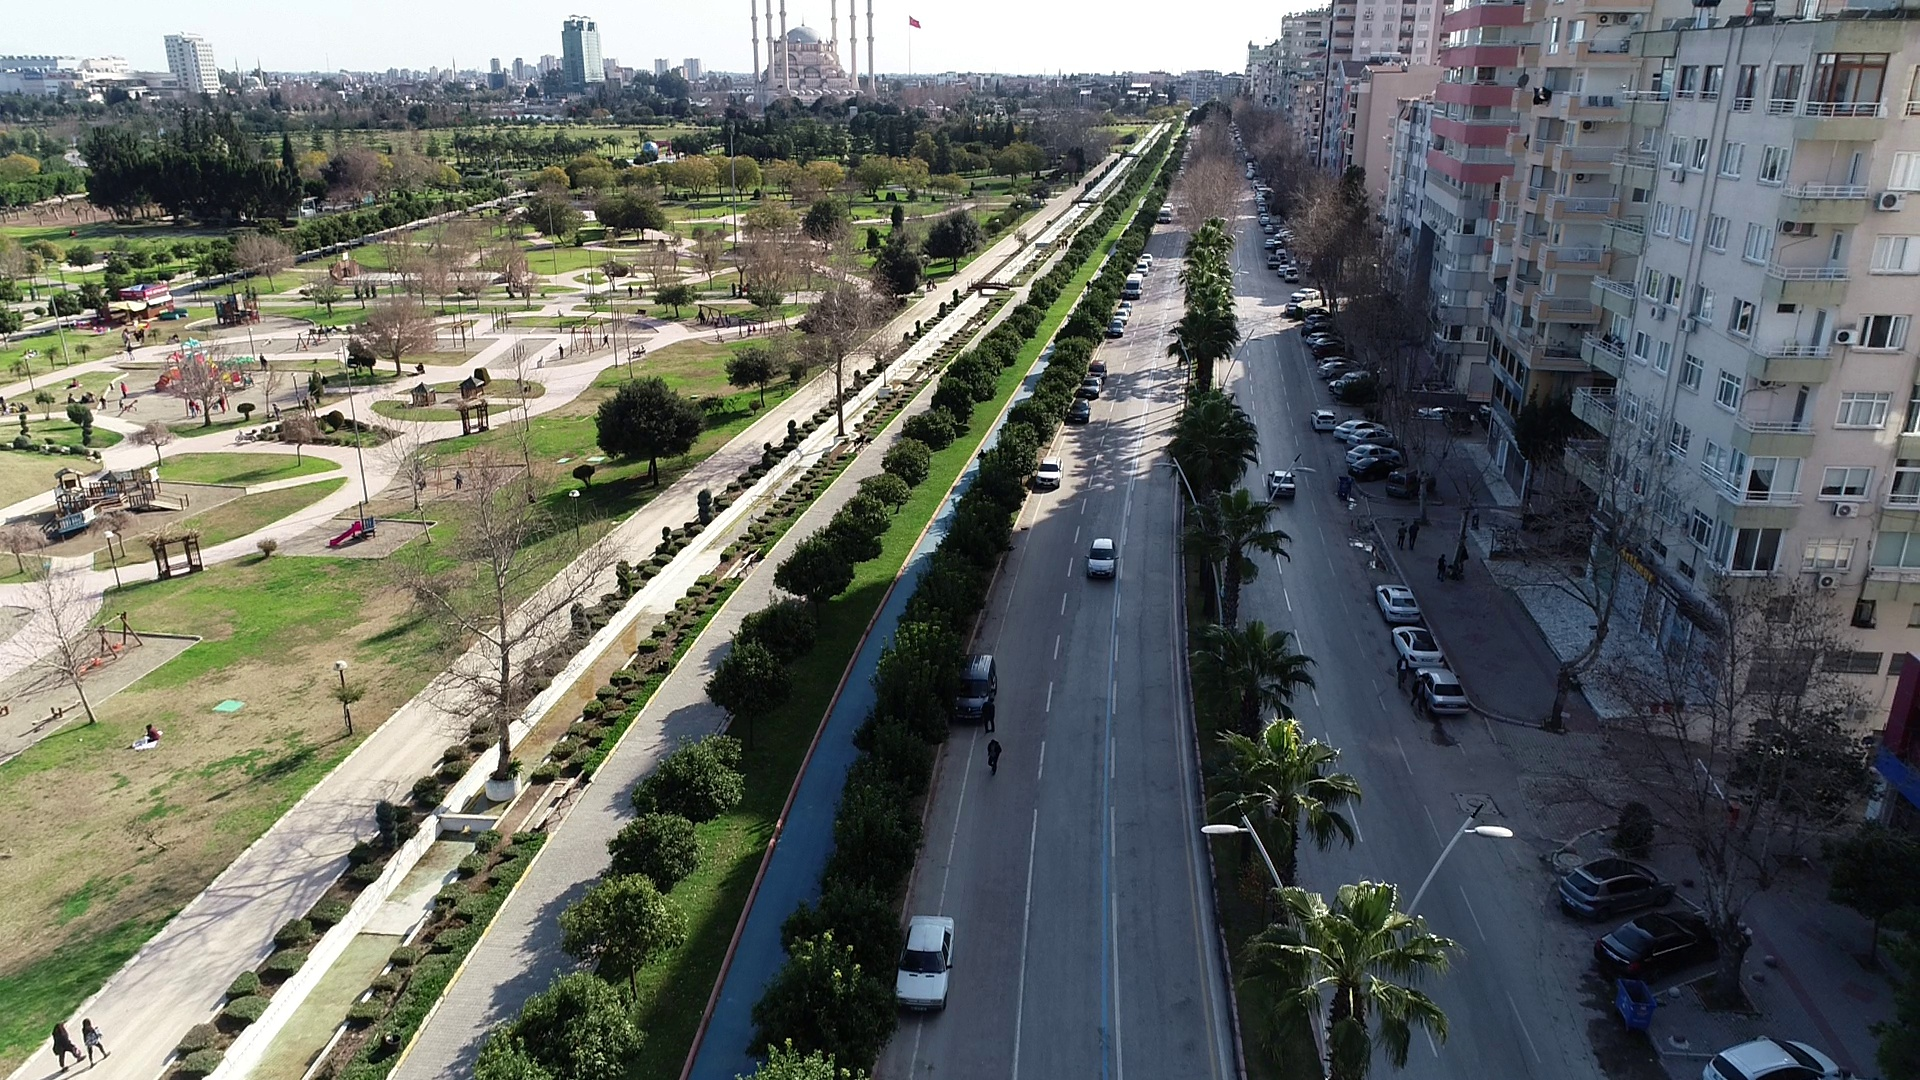car: (1589, 906, 1731, 982), (1557, 855, 1682, 906), (896, 910, 955, 1014), (1388, 619, 1455, 670), (1370, 584, 1423, 631), (1423, 668, 1472, 717), (1078, 535, 1119, 584), (1384, 465, 1433, 494), (1031, 455, 1061, 498), (1266, 465, 1304, 498)
person: (41, 1017, 82, 1068), (80, 1006, 110, 1072), (980, 733, 1004, 786), (980, 694, 998, 739), (141, 714, 166, 747), (1412, 670, 1429, 715), (1398, 659, 1412, 696)
